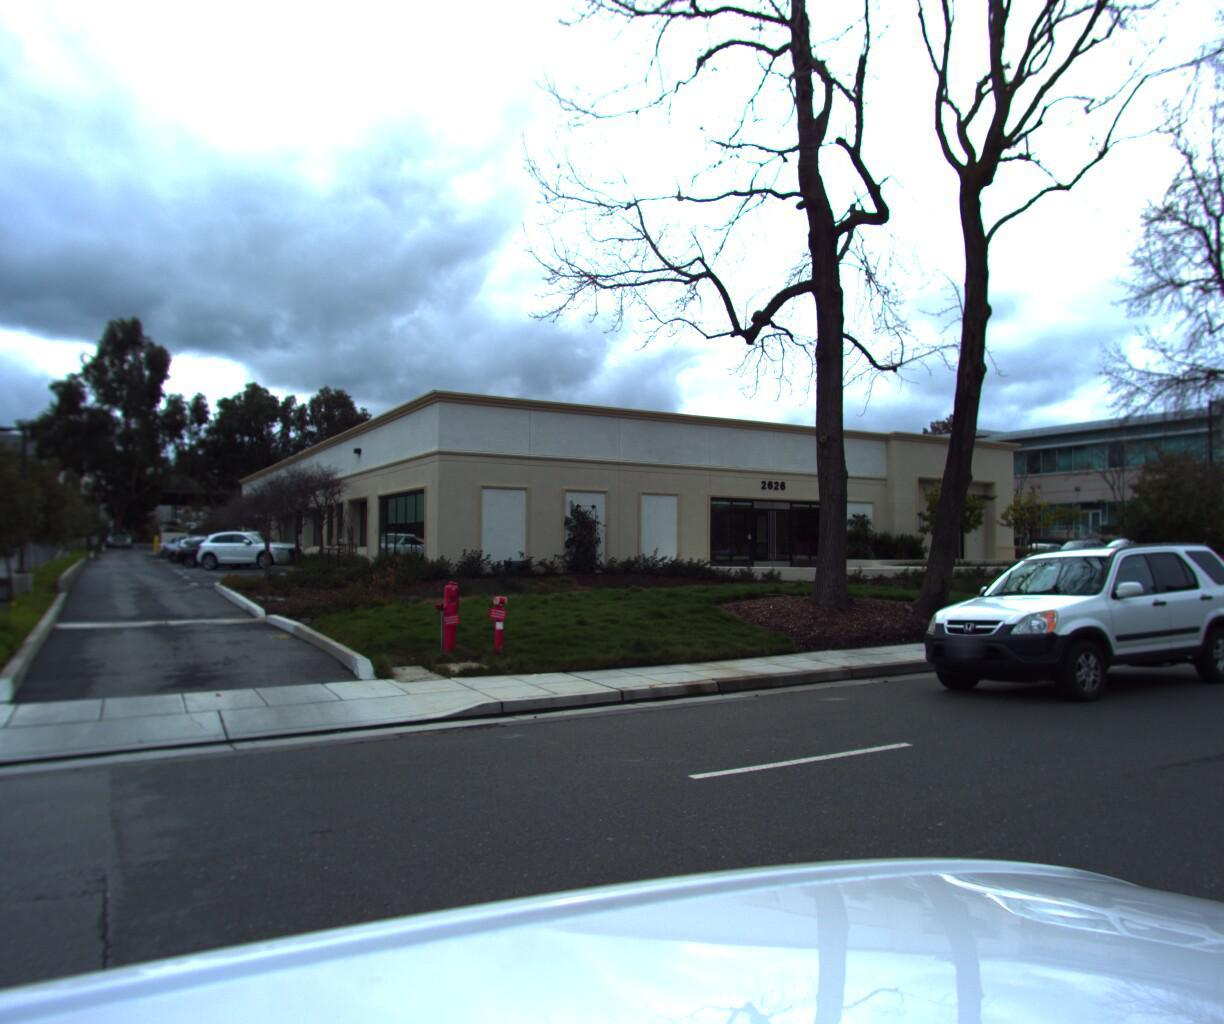car: (899, 537, 1224, 713)
